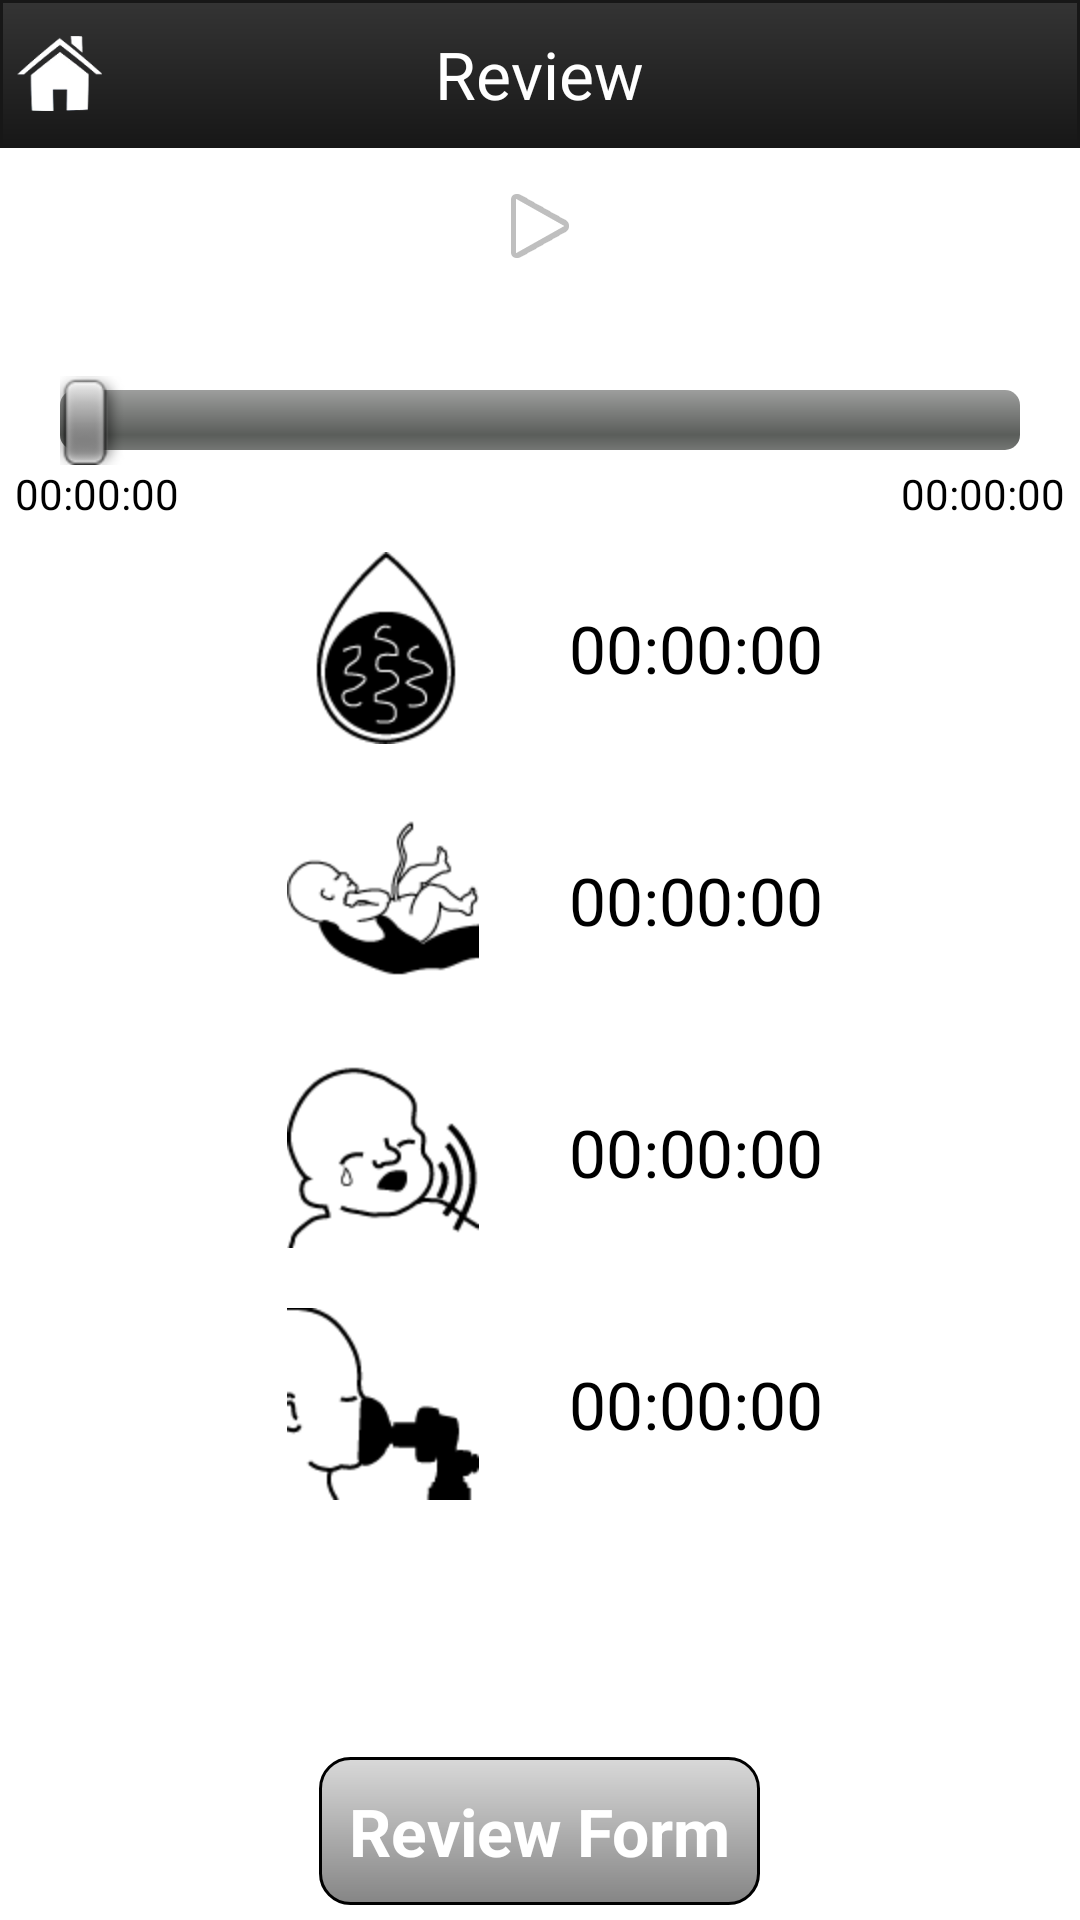

Where to tap for icons on this 1080×1920 app screen, as point (x, y):
Home: point (59, 73)
play: point (540, 226)
